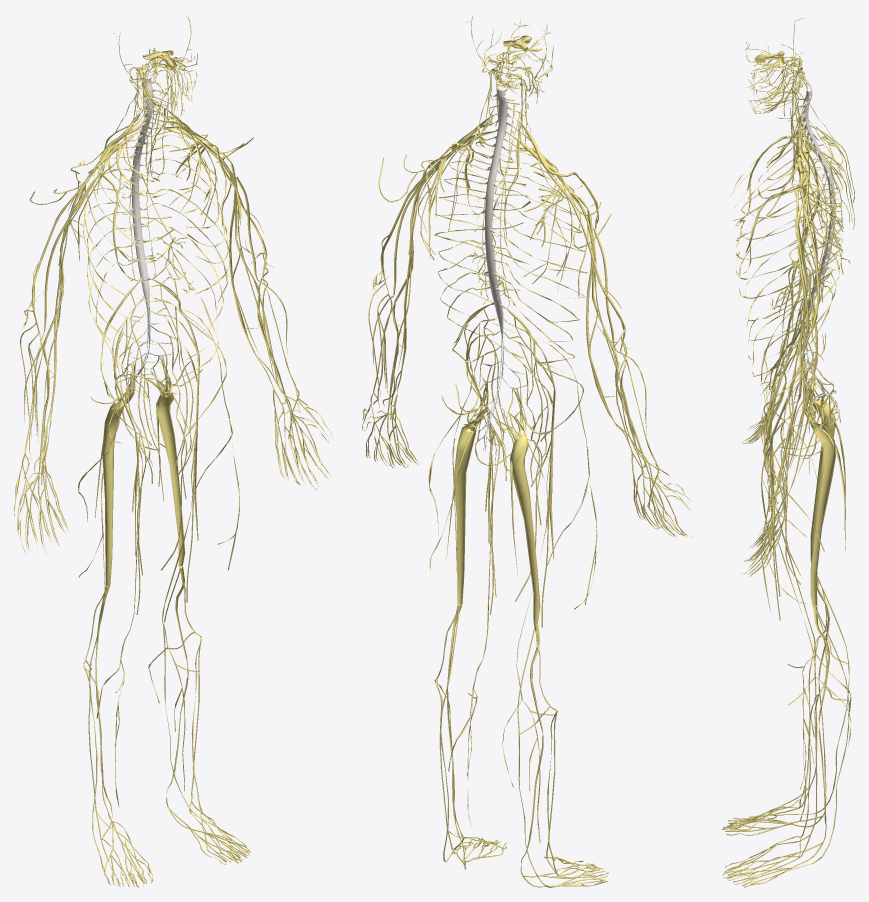
The model's file is nerves.glb.
3 renders of one model, left to right at view 1: azimuth 30°, elevation 25°; view 2: azimuth 150°, elevation 25°; view 3: azimuth 270°, elevation 25°, orthographic. The views are drawn at different scales.
Visible parts, largest first — view 1: intercostal_nerves|-1|pns, intercostal_nerves|1|pns, spinal_dura|0|cord, sciatic_nerve|-1|pns, sciatic_nerve|1|pns, median_nerve|-1|pns, femoral_nerve|1|pns, saphenous_nerve|1|pns, vagus_nerve_x|-1|pns, femoral_nerve|-1|pns, ulnar_nerve|1|pns, saphenous_nerve|-1|pns (+1 smaller); view 2: spinal_dura|0|cord, sciatic_nerve|-1|pns, sciatic_nerve|1|pns, intercostal_nerves|1|pns, intercostal_nerves|-1|pns, femoral_nerve|-1|pns, saphenous_nerve|1|pns, median_nerve|-1|pns, ulnar_nerve|-1|pns, saphenous_nerve|-1|pns; view 3: sciatic_nerve|1|pns, intercostal_nerves|1|pns, intercostal_nerves|-1|pns, spinal_dura|0|cord, median_nerve|1|pns, sciatic_nerve|-1|pns, saphenous_nerve|1|pns, ulnar_nerve|1|pns, lateral_femoral_cutaneous_nerve|1|pns, saphenous_nerve|-1|pns, vagus_nerve_x|-1|pns, tibial_nerve|1|pns (+16 smaller).
Part boxes in pixels (box(x1,y1,x2,y2)): intercostal_nerves|-1|pns: box(83, 132, 175, 380); intercostal_nerves|1|pns: box(142, 127, 230, 376); spinal_dura|0|cord: box(128, 77, 158, 317); sciatic_nerve|-1|pns: box(102, 363, 133, 586); sciatic_nerve|1|pns: box(148, 356, 185, 568); median_nerve|-1|pns: box(38, 168, 95, 473); femoral_nerve|1|pns: box(153, 297, 199, 540); saphenous_nerve|1|pns: box(148, 425, 197, 791); vagus_nerve_x|-1|pns: box(138, 64, 195, 302); femoral_nerve|-1|pns: box(113, 300, 141, 556); ulnar_nerve|1|pns: box(200, 141, 273, 388); saphenous_nerve|-1|pns: box(96, 442, 143, 806); spinal_dura|0|cord: box(481, 89, 513, 342); sciatic_nerve|-1|pns: box(505, 390, 540, 623); sciatic_nerve|1|pns: box(454, 384, 486, 605); intercostal_nerves|1|pns: box(434, 141, 530, 358); intercostal_nerves|-1|pns: box(495, 149, 587, 363); femoral_nerve|-1|pns: box(506, 322, 555, 558); saphenous_nerve|1|pns: box(448, 424, 496, 826); median_nerve|-1|pns: box(559, 183, 650, 476); ulnar_nerve|-1|pns: box(558, 176, 632, 452); saphenous_nerve|-1|pns: box(502, 448, 550, 843); sciatic_nerve|1|pns: box(802, 382, 835, 607); intercostal_nerves|1|pns: box(736, 148, 842, 376); intercostal_nerves|-1|pns: box(735, 135, 842, 365); spinal_dura|0|cord: box(801, 89, 835, 317); median_nerve|1|pns: box(774, 192, 808, 502); sciatic_nerve|-1|pns: box(810, 397, 835, 562); saphenous_nerve|1|pns: box(767, 445, 851, 821); ulnar_nerve|1|pns: box(782, 185, 817, 473); lateral_femoral_cutaneous_nerve|1|pns: box(761, 335, 824, 611); saphenous_nerve|-1|pns: box(767, 422, 851, 789); vagus_nerve_x|-1|pns: box(770, 70, 818, 314); tibial_nerve|1|pns: box(813, 607, 829, 841).
Size of the model in its own units: 0.6452 by 1.61 by 0.2353.
